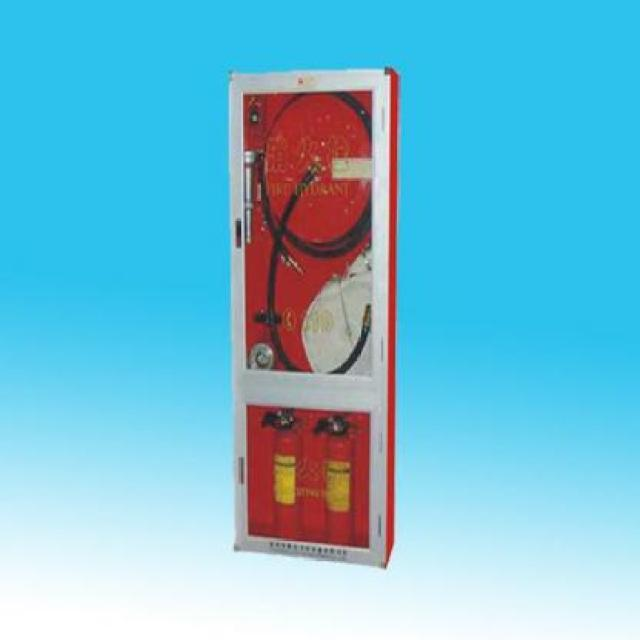firehydrant: (226, 62, 402, 574)
